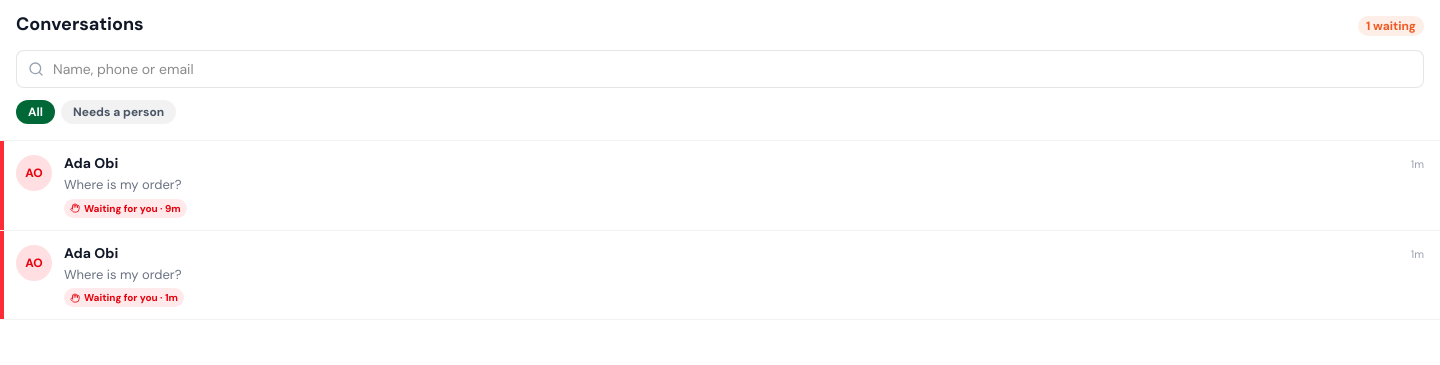
Test case: ConversationRail › a team on one queue › tells customer service the queue is longest-waiting first
Click the button "Needs a person" at (118, 112), box x1=61 y1=100 x2=176 y2=124
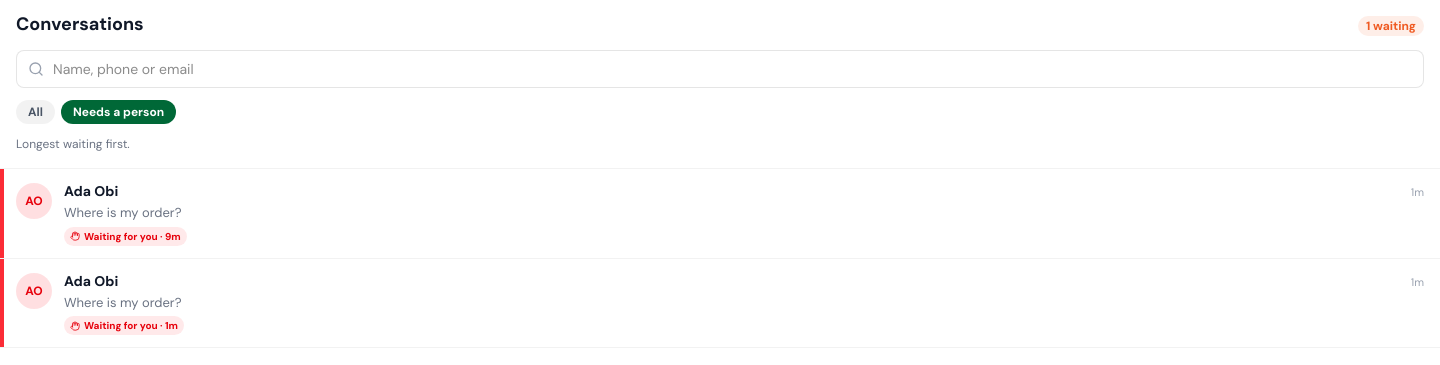
Result: the text "Longest waiting first." is shown at x1=16 y1=136 x2=130 y2=152
